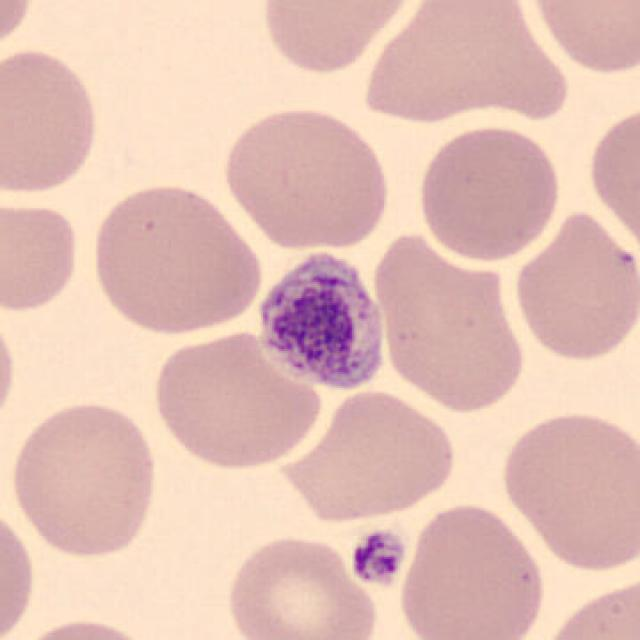Platelets: (249, 240, 395, 404), (347, 527, 409, 589)
RBC: (374, 229, 532, 416), (85, 178, 267, 339), (217, 102, 395, 252), (147, 326, 326, 474), (5, 395, 162, 561), (274, 386, 460, 526), (496, 405, 638, 575), (412, 120, 566, 264), (395, 499, 549, 640), (508, 206, 638, 367), (220, 530, 382, 640), (0, 42, 103, 200), (254, 0, 423, 76), (0, 194, 84, 317), (520, 0, 638, 79), (583, 99, 640, 259), (535, 573, 640, 640), (0, 500, 39, 640), (9, 613, 160, 640), (0, 301, 21, 440), (0, 0, 39, 62)
